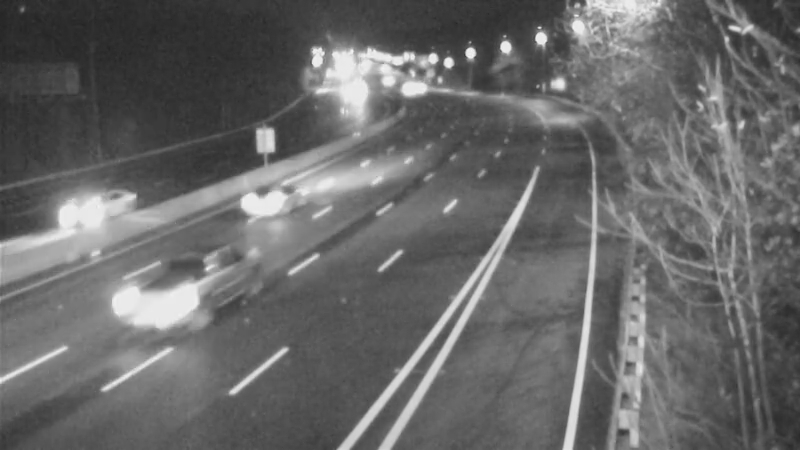vehicle: (111, 251, 221, 361), (223, 161, 303, 241), (43, 176, 123, 256), (388, 62, 438, 112)
